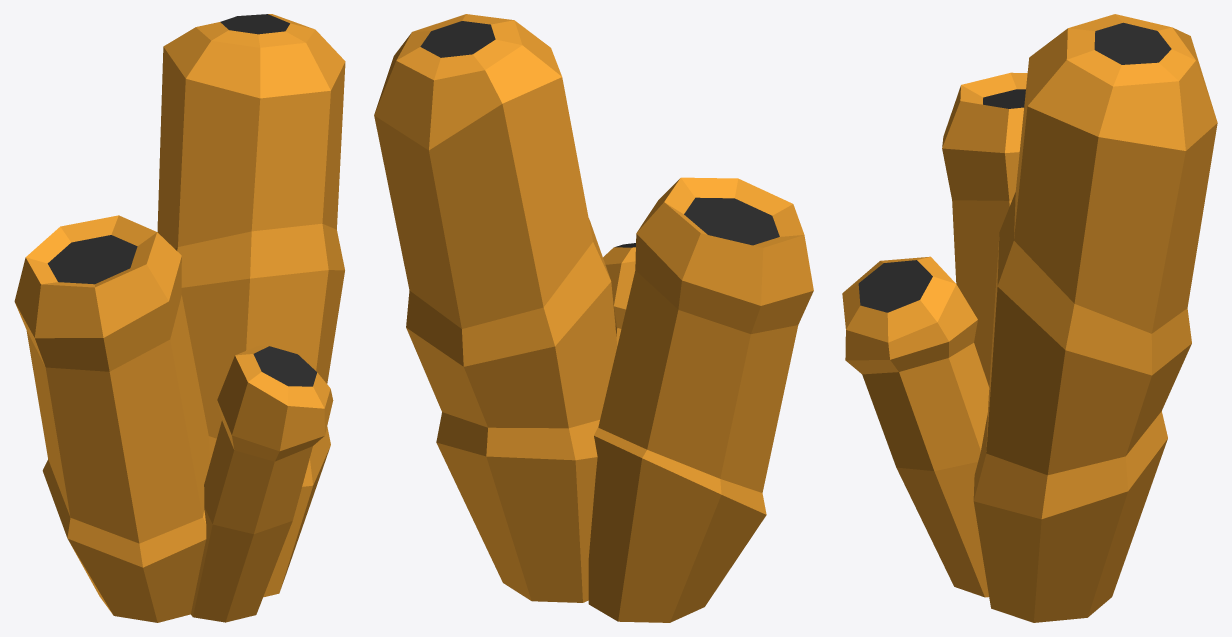
File: nature-coral-big.glb
3 views of the same model, side by side, from view 1: azimuth 30°, elevation 25°; view 2: azimuth 150°, elevation 25°; view 3: azimuth 270°, elevation 25° (orthographic). The views are drawn at different scales.
Visible parts, largest first — view 1: coral-big; view 2: coral-big; view 3: coral-big.
Boxes of the visible parts, x1,y1,x2,y2 form: coral-big: (14,14,345,622); coral-big: (374,14,813,622); coral-big: (842,14,1217,622).
Bounding box in the file's own units: 0.9709 × 1.38 × 0.7914.
